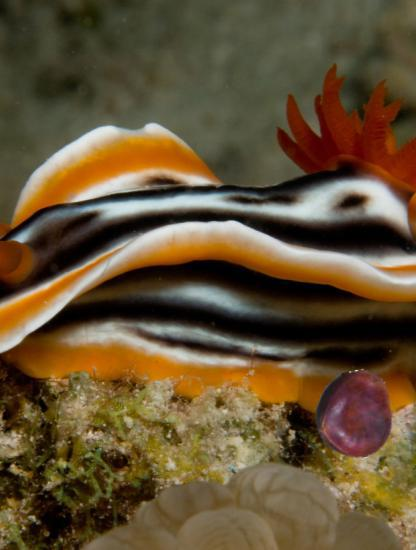Chestnut: (310, 372, 398, 460)
